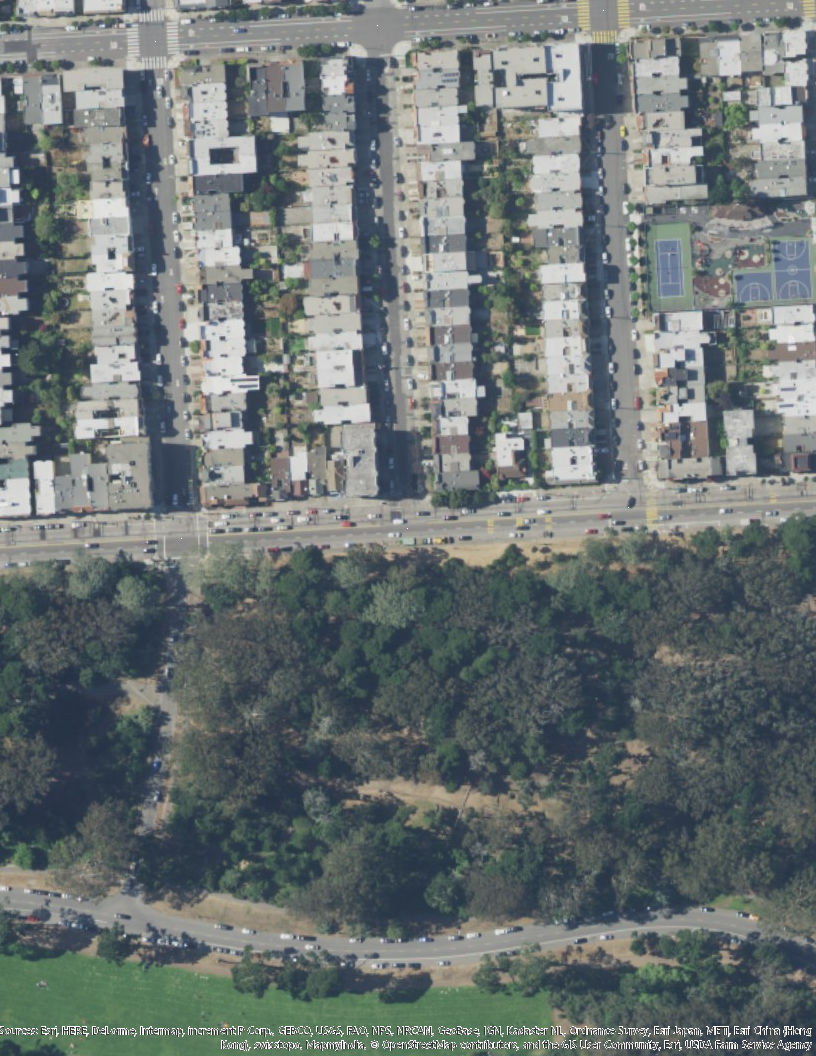zebracross: (575, 1, 593, 31), (124, 25, 140, 57), (165, 23, 179, 55), (615, 1, 631, 29), (138, 9, 164, 23), (593, 30, 617, 43), (143, 56, 168, 68), (802, 1, 815, 19)
